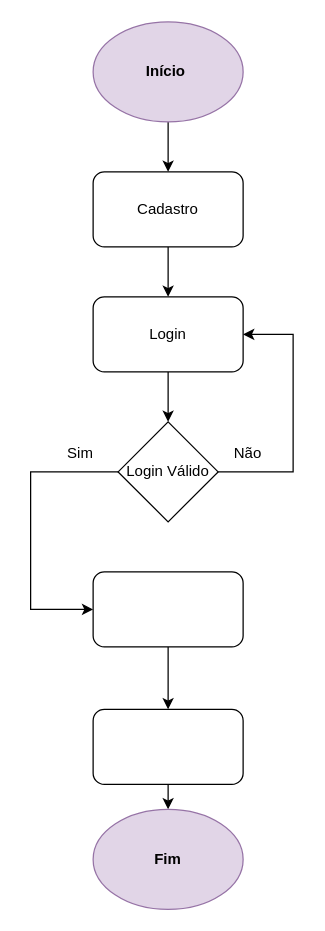
The diagram is 325 pixels wide and 931 high, and some of its shapes have lost their labels. Here are the shapes that lost their labels. From the top down, the centre of each, then its label:
the point at 167,609: Envio
the point at 167,746: Descriptografia
